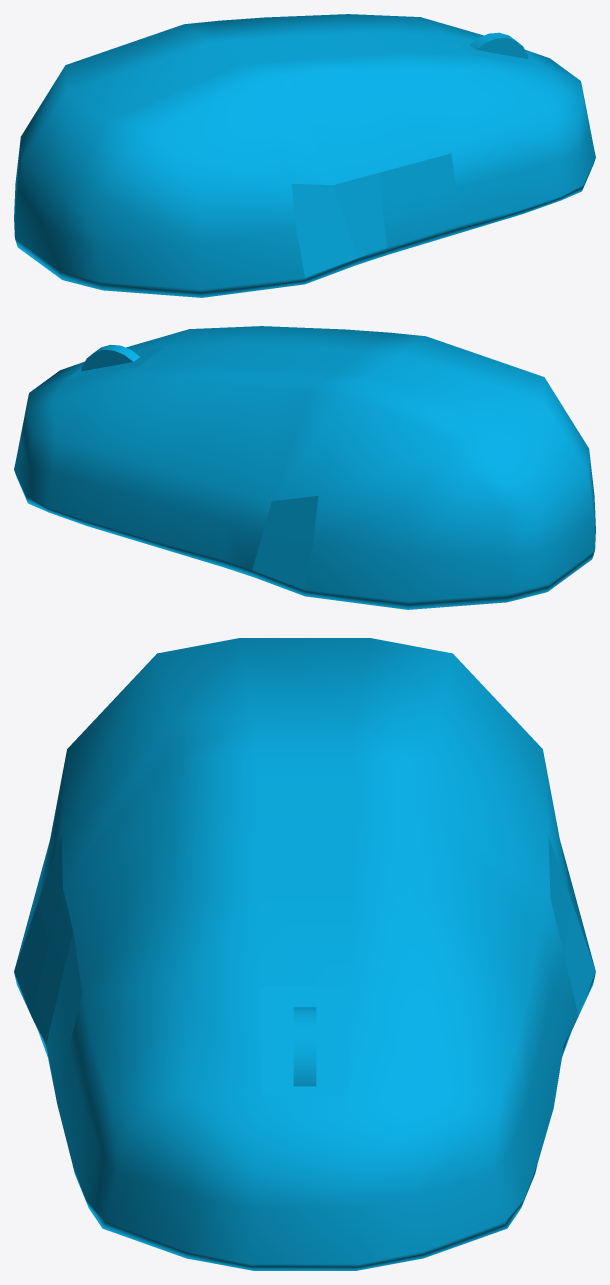
The model's file is Mouse_Lod0.fbx.
The picture shows the model from 3 angles, top to bottom: view 1: azimuth 30°, elevation 25°; view 2: azimuth 150°, elevation 25°; view 3: azimuth 270°, elevation 25°; orthographic projection. The views are drawn at different scales.
Parts seen in each view (by area): view 1: Mouse_Lod0; view 2: Mouse_Lod0; view 3: Mouse_Lod0.
Boxes of the visible parts, x1,y1,x2,y2 form: Mouse_Lod0: (14, 14, 595, 297); Mouse_Lod0: (14, 326, 595, 609); Mouse_Lod0: (14, 638, 595, 1270).
Size of the model in its own units: 18.59 by 5.44 by 10.56.
